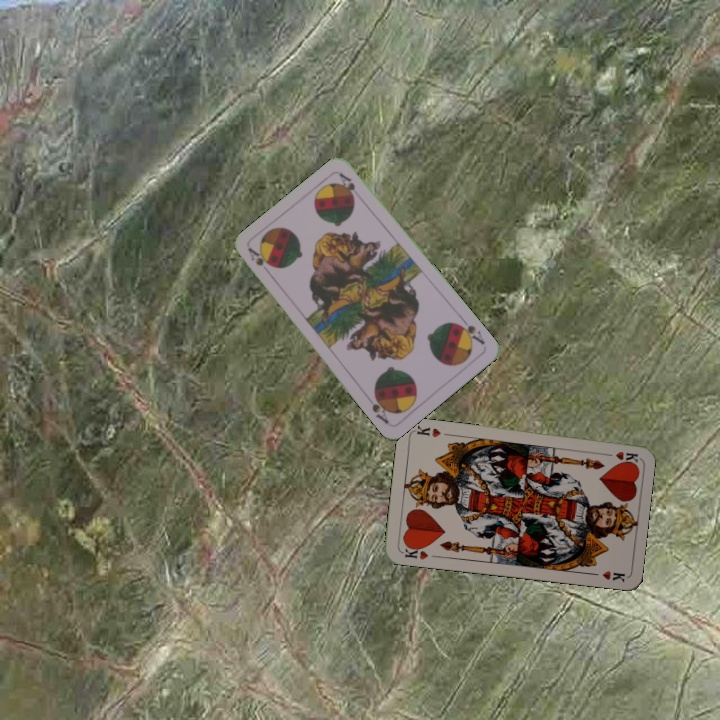HK: (599, 447, 640, 465), (398, 541, 430, 562)
SA: (452, 314, 487, 347), (244, 244, 274, 270)
